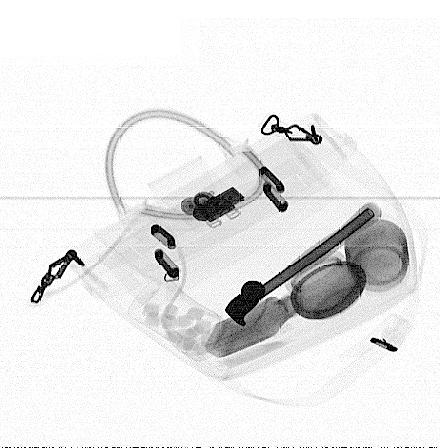Hammer: (224, 201, 383, 328)
